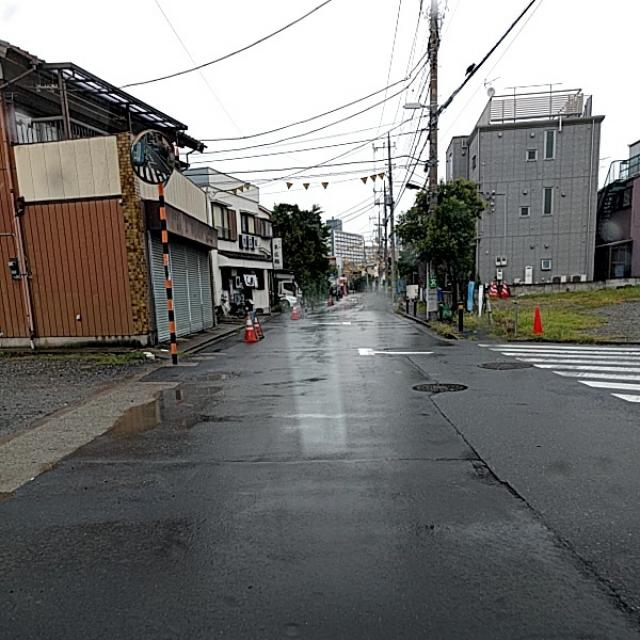pothole: (450, 440, 529, 504)
